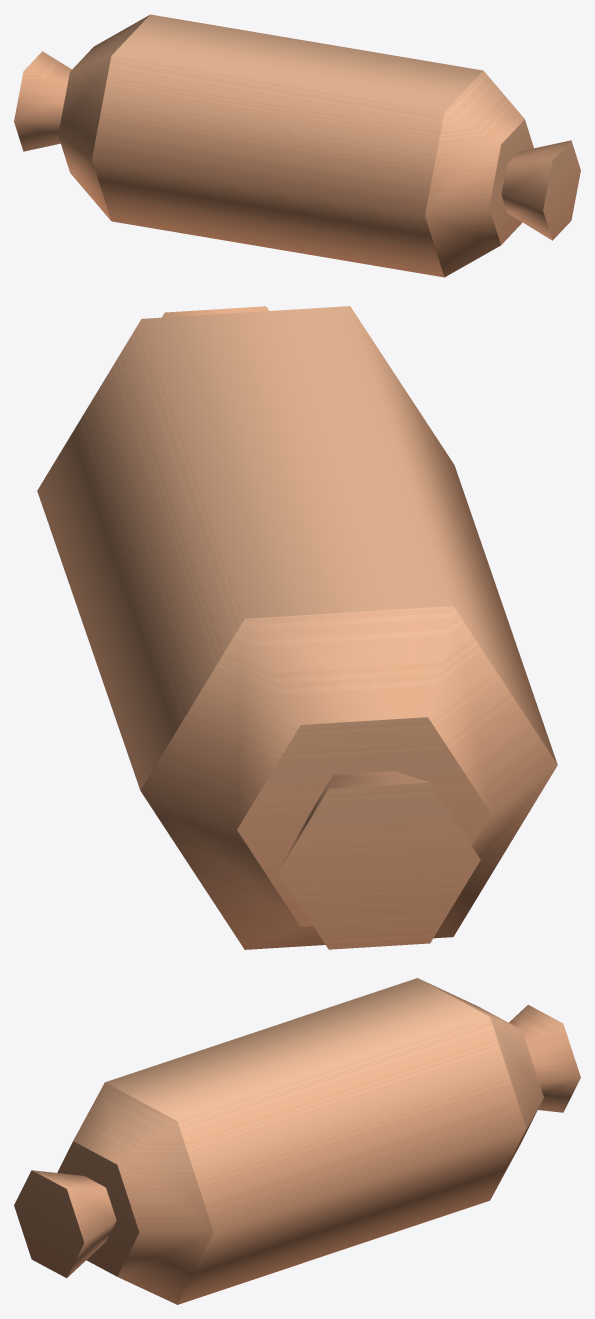
File: sausage.glb
3 renders of one model, top to bottom at view 1: azimuth 30°, elevation 25°; view 2: azimuth 150°, elevation 25°; view 3: azimuth 270°, elevation 25°, orthographic. The views are drawn at different scales.
Visible parts, largest first — view 1: sausage; view 2: sausage; view 3: sausage.
Part boxes in pixels (x1,y1,x2,y2): sausage: (14, 14, 580, 277); sausage: (37, 306, 557, 949); sausage: (14, 978, 580, 1304).
Bounding box in the file's own units: 2.13 × 0.8985 × 2.51.
1 material, 1 textured.
